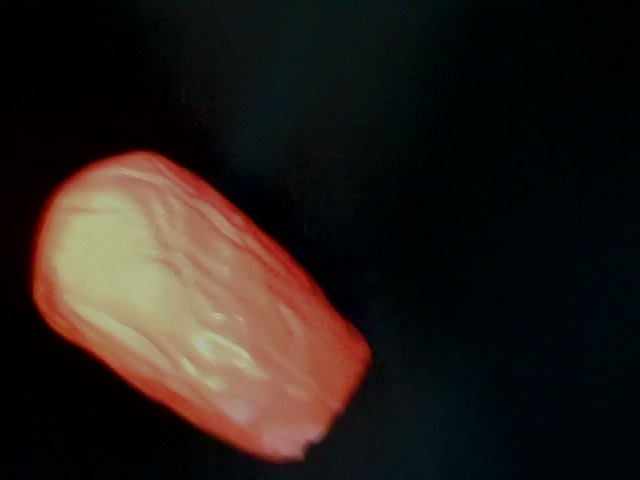YHLJ: (218, 58, 310, 125)
